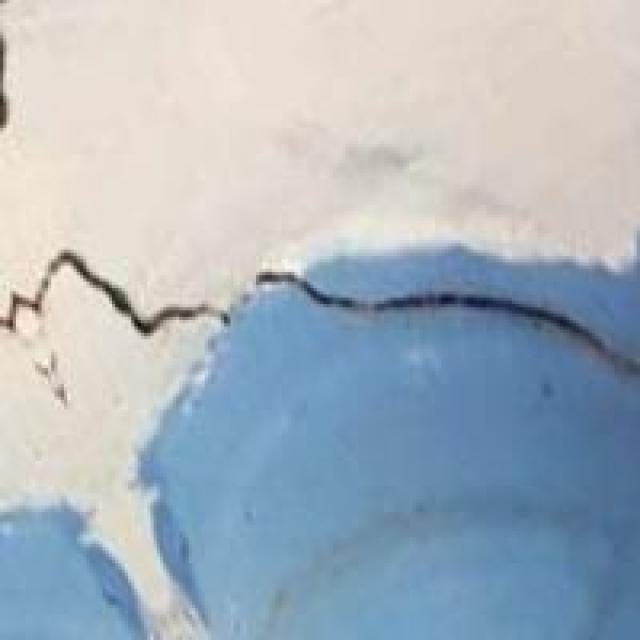Crack: (0, 189, 637, 474)
